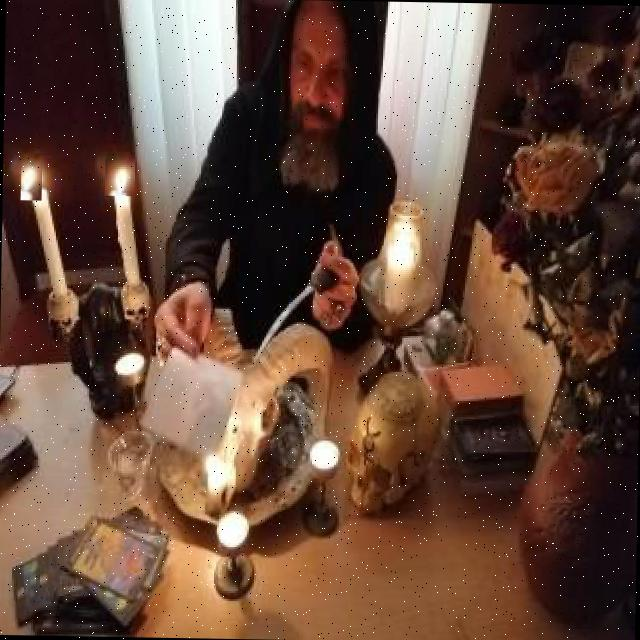fire: (104, 151, 135, 196), (20, 153, 42, 200)
